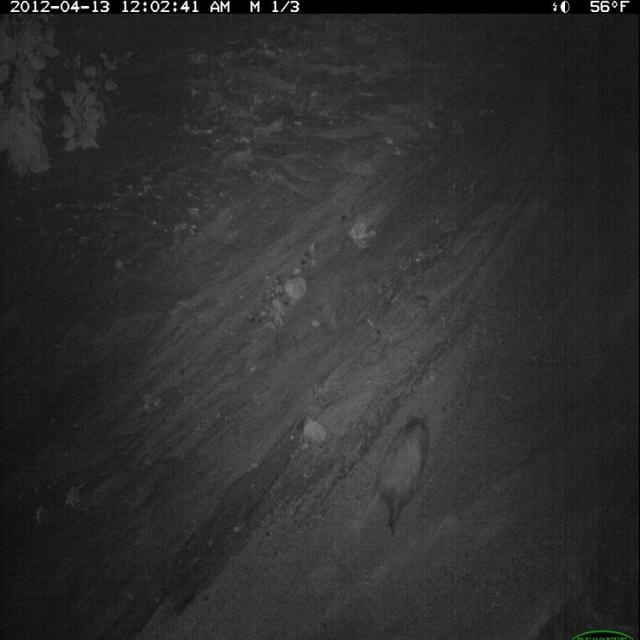opossum: (348, 410, 435, 549)
